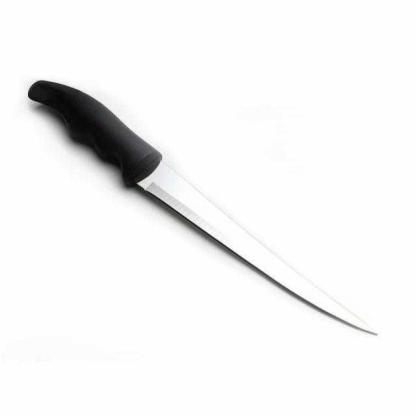Knife: (20, 55, 382, 343)
